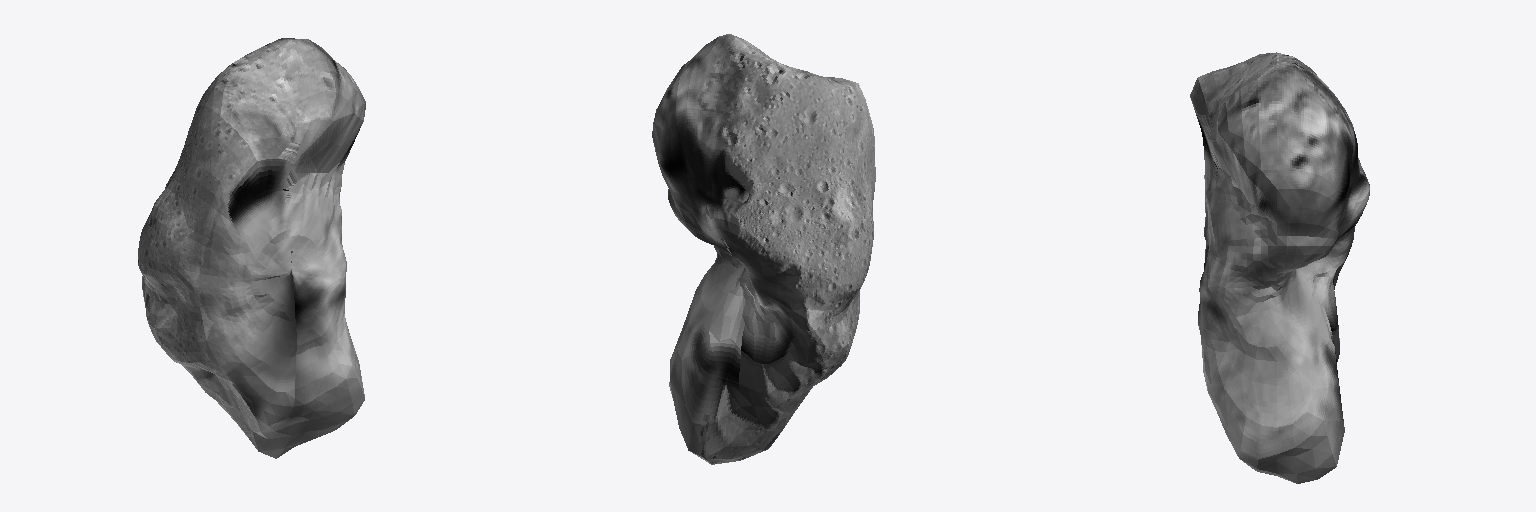
3 views of the same model, side by side, from view 1: azimuth 30°, elevation 25°; view 2: azimuth 150°, elevation 25°; view 3: azimuth 270°, elevation 25° (orthographic).
Bounding box in the file's own units: 30.03 × 57.85 × 22.62.
1 materials, 1 textured.